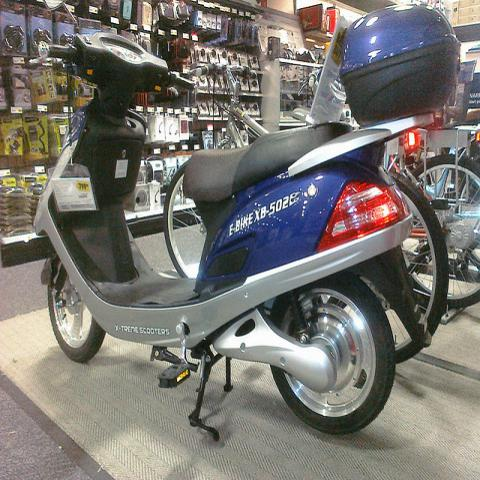motorcycle: (33, 3, 463, 442)
